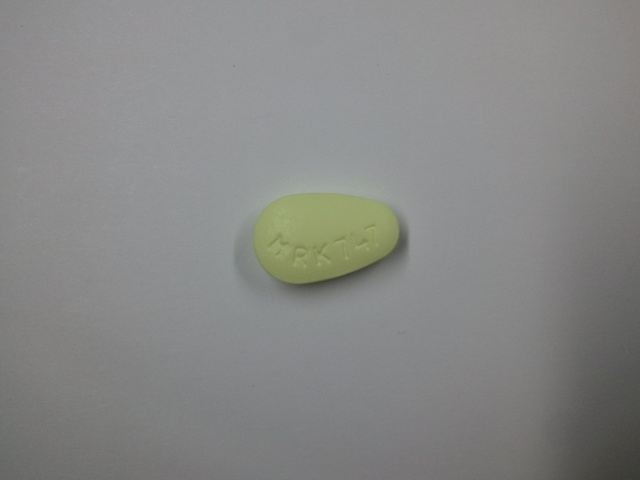4: (350, 230, 372, 257)
7: (362, 222, 386, 249), (330, 235, 352, 262)
K: (311, 241, 333, 271)
M: (266, 232, 291, 261)
R: (290, 244, 311, 272)
